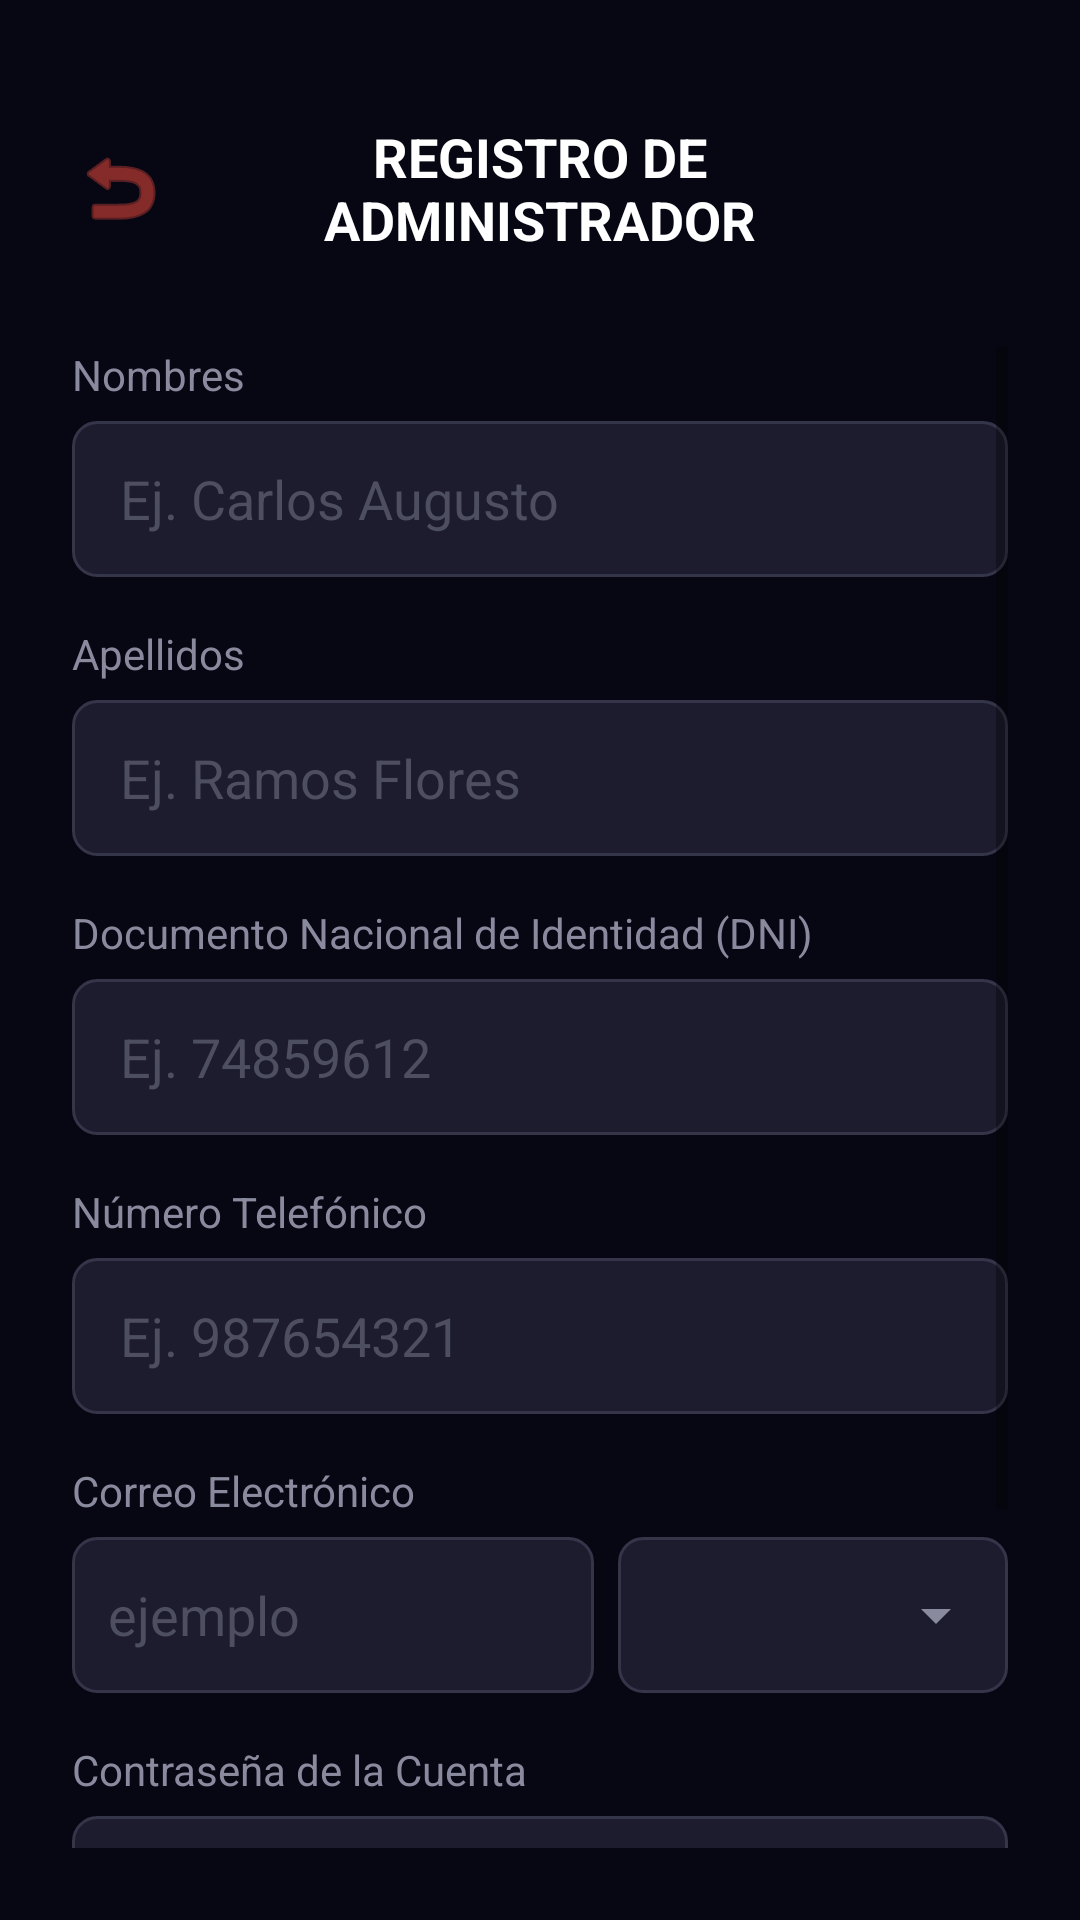

Named icons in this screenshot (1080x1920) and their centers, (x=x, y=y):
Volver: (x=121, y=188)
